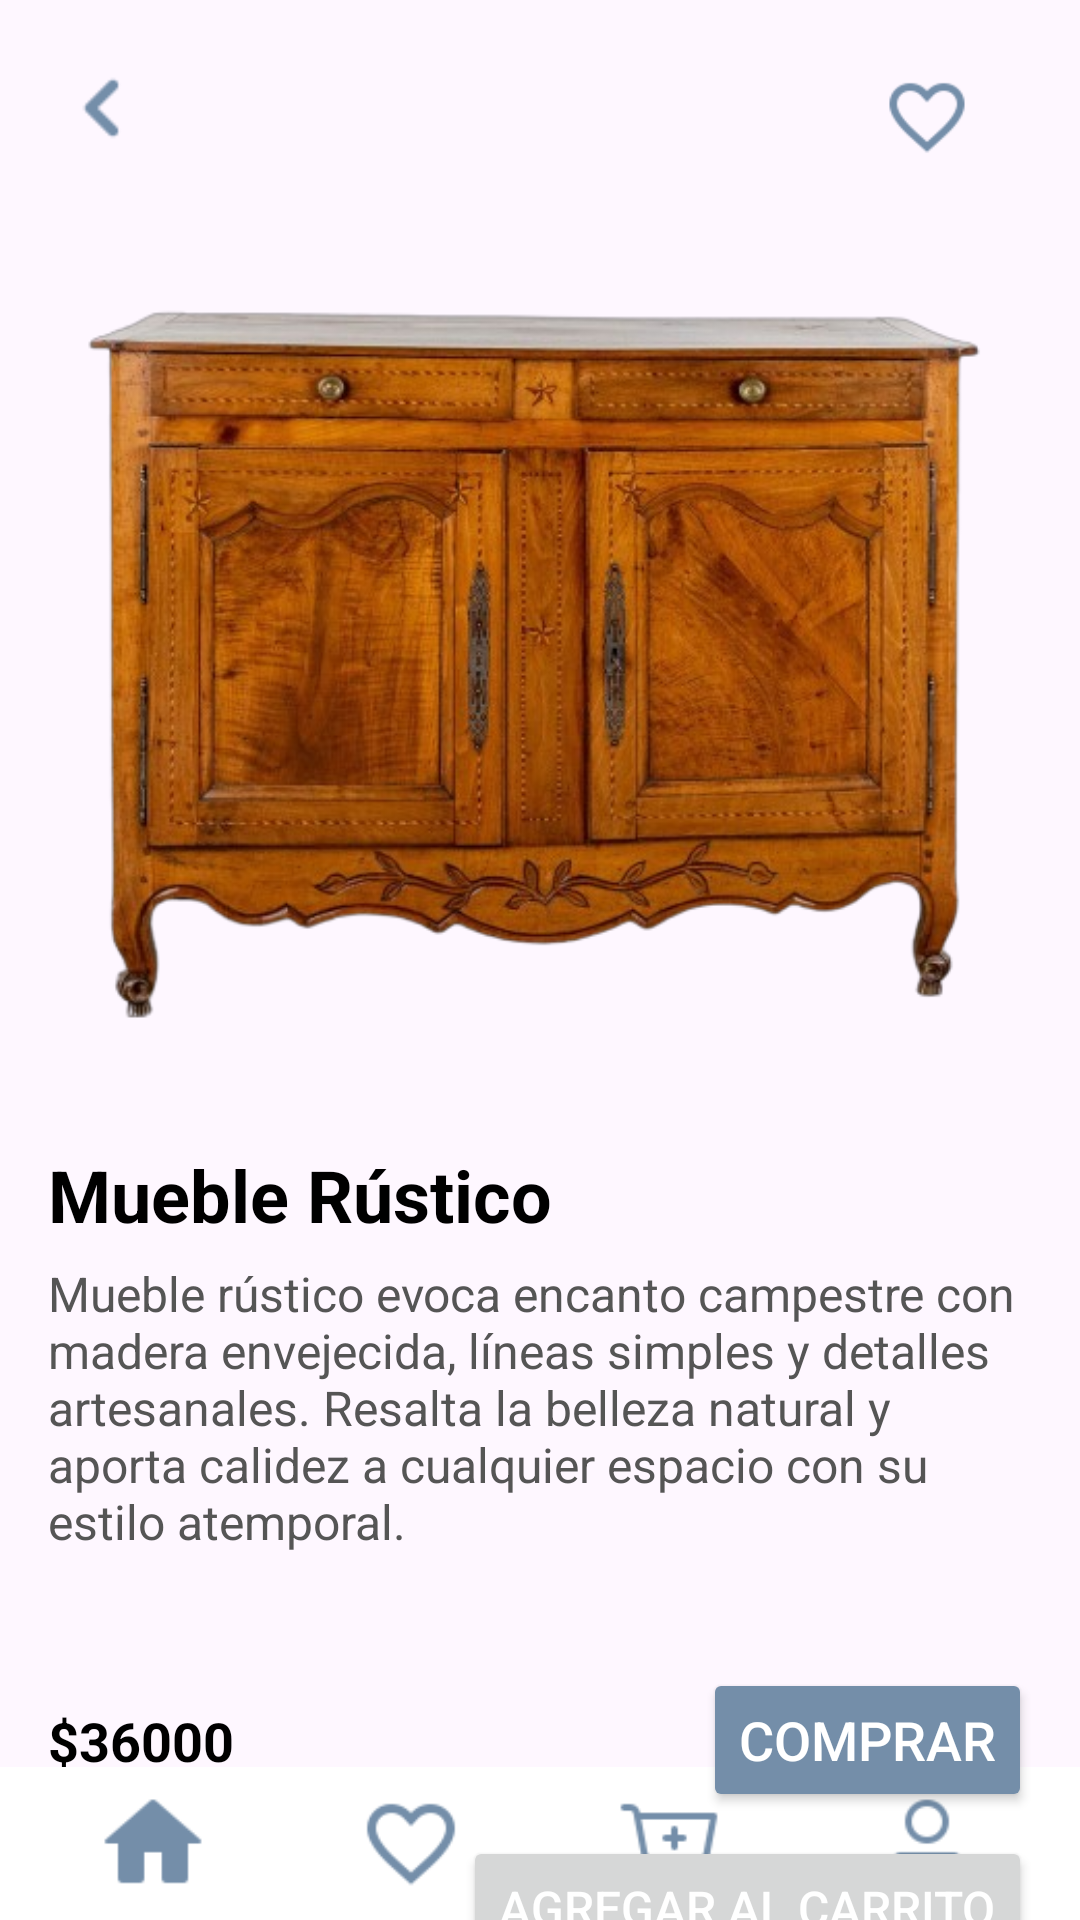

Icon click points for this 1080 x 1920 phone screenshot, format (x=x, y=y):
back: (x=101, y=108)
heart: (x=927, y=117)
Inicio: (x=153, y=1841)
